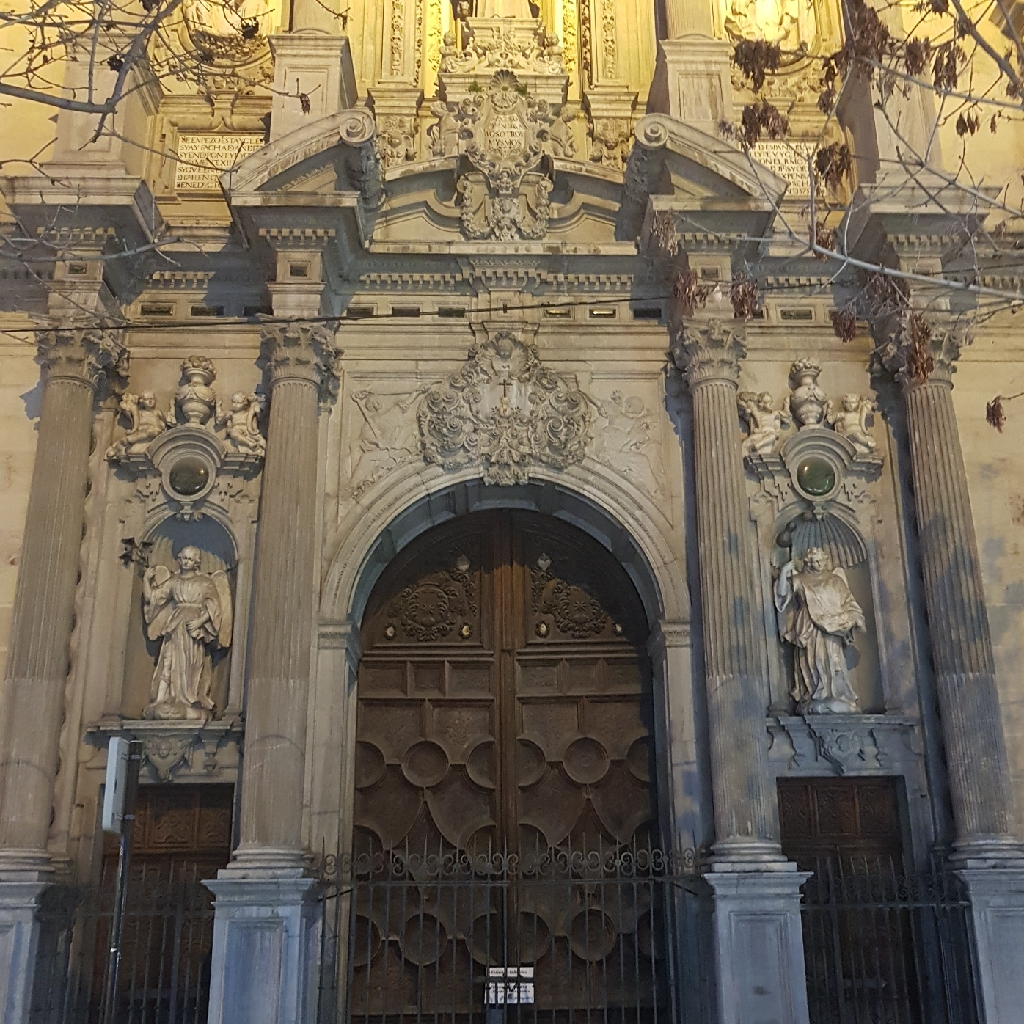arco-medio-punto: (341, 464, 674, 679)
fronton-partido: (223, 107, 777, 228)
